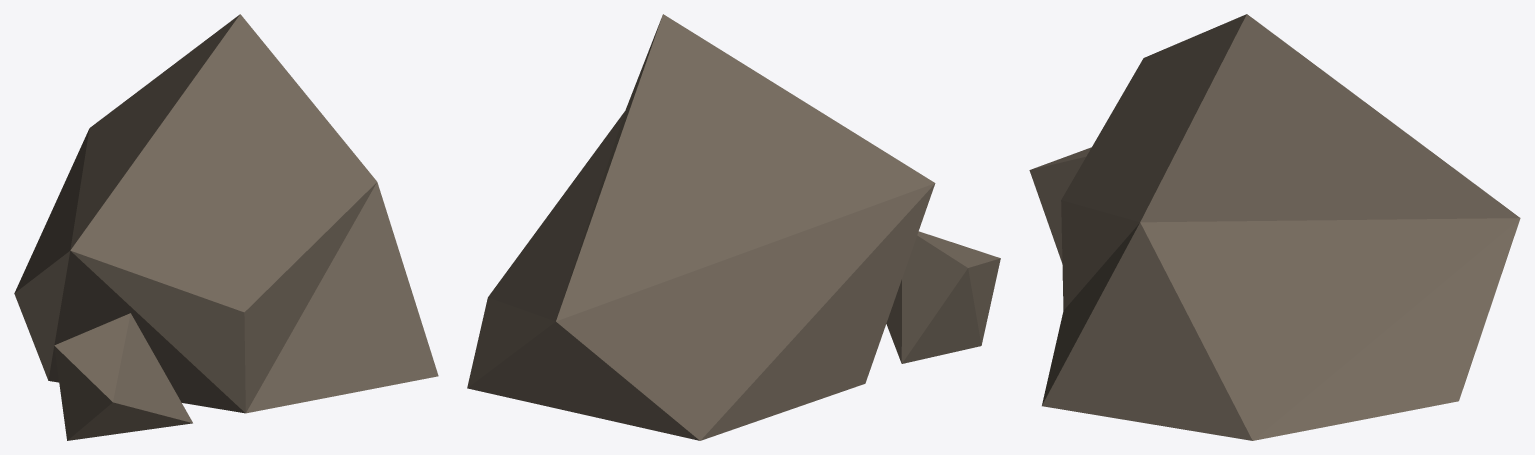
Rendered from ston5.FBX.
3 renders of one model, left to right at view 1: azimuth 30°, elevation 25°; view 2: azimuth 150°, elevation 25°; view 3: azimuth 270°, elevation 25°, orthographic. The views are drawn at different scales.
Parts seen in each view (by area): view 1: Stone_13; view 2: Stone_13; view 3: Stone_13.
Part boxes in pixels (x1,y1,x2,y2): Stone_13: (14, 14, 438, 440); Stone_13: (467, 14, 1000, 440); Stone_13: (1029, 14, 1520, 440).
Size of the model in its own units: 72.76 by 53.53 by 70.32.
